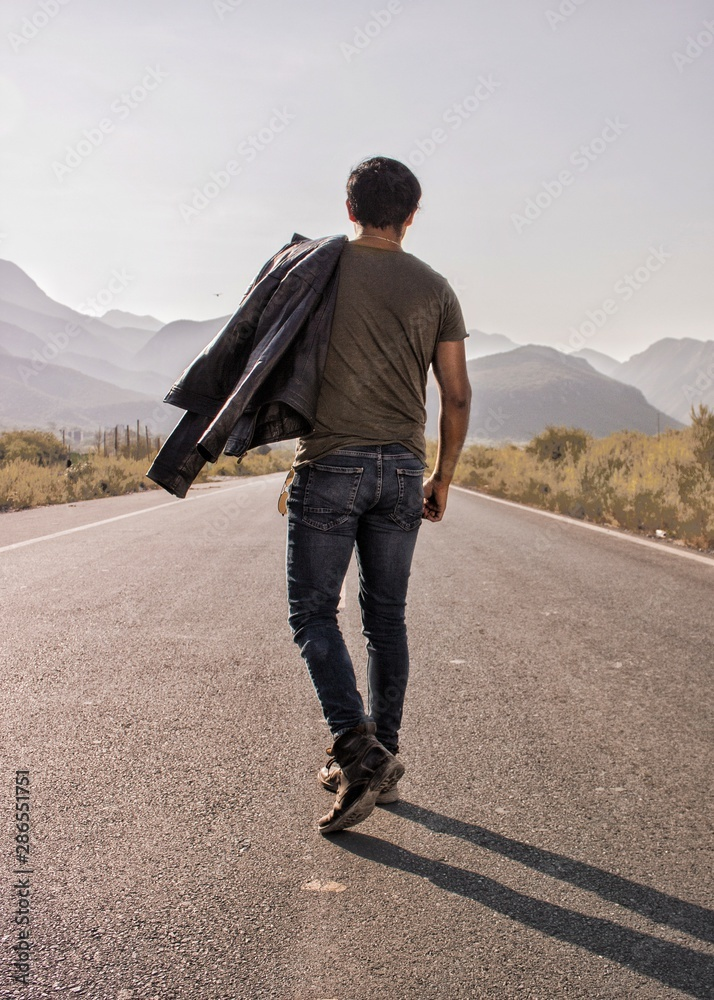person: (149, 157, 479, 842)
